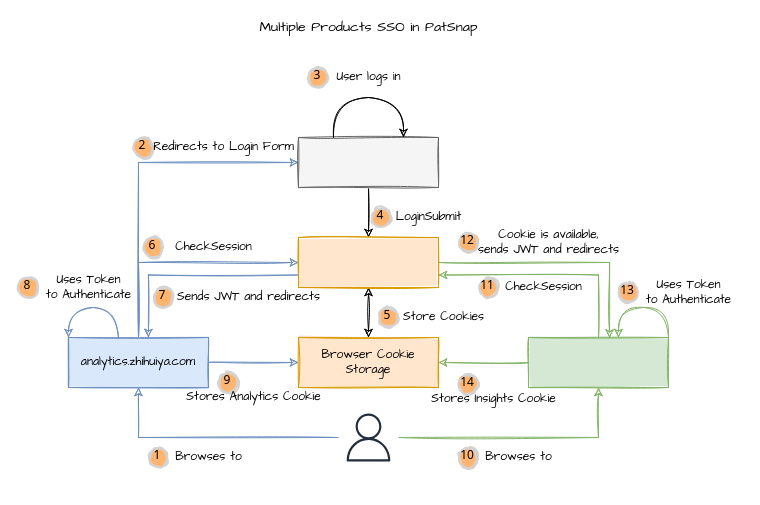
The diagram is 760 pixels wide and 505 high, and some of its shapes have lost their labels. Each missing label, with the centre of its shape:
account.zhihuiya.com: the point at 368,162
insights.zhihuiya.com: the point at 598,362
passport.zhihuiya.com: the point at 368,262
User: the point at 368,437
